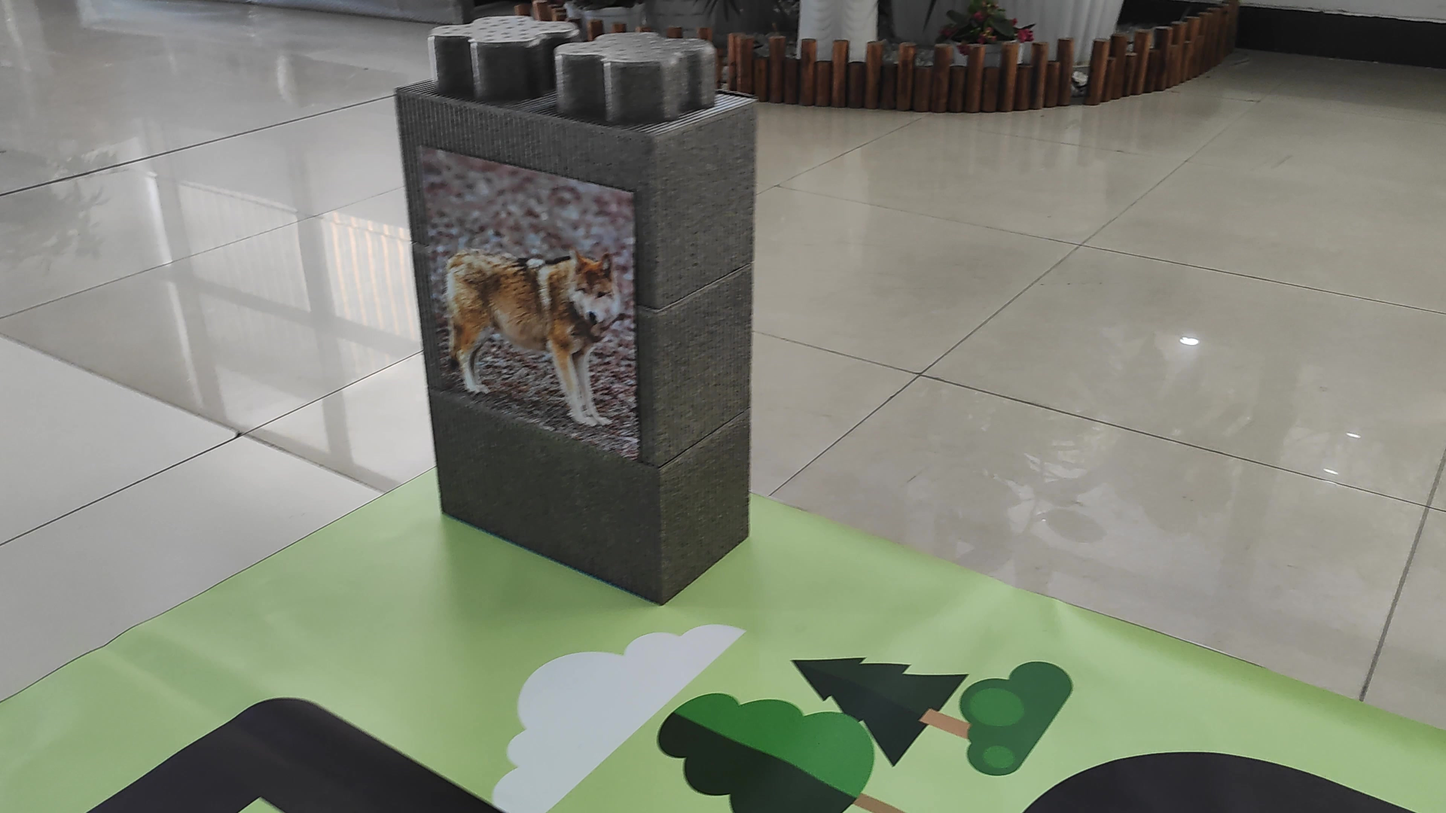wolf: (436, 217, 639, 431)
